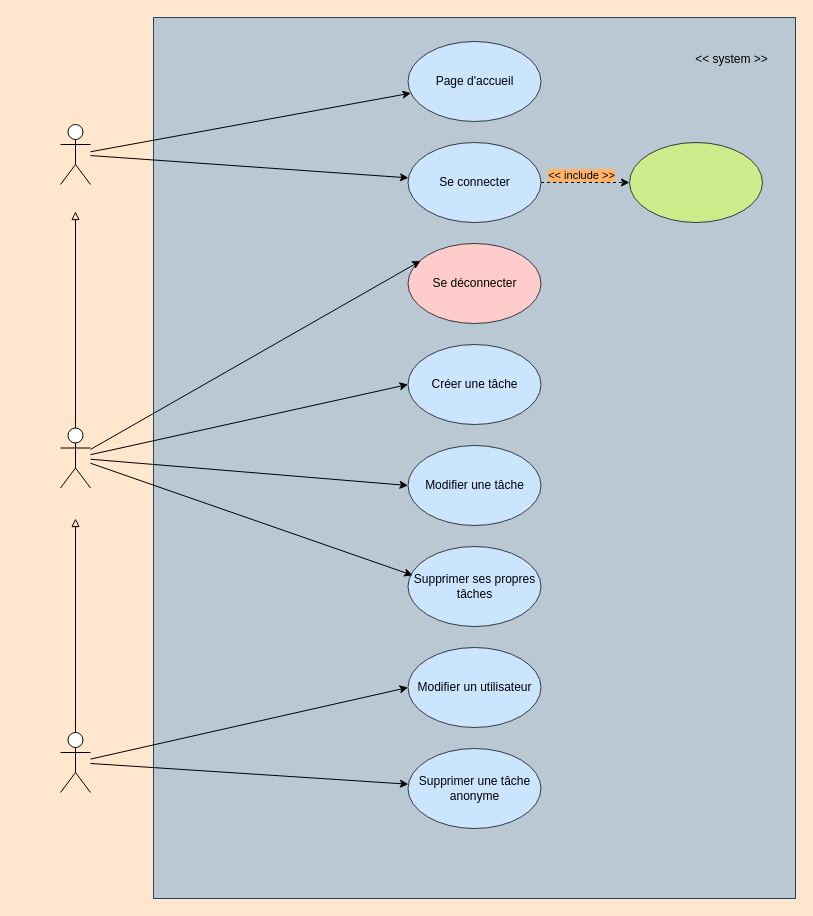
Some shapes in this 813 by 916 pixel diagram are drawn without their labels. Each missing label, with the box of its shape:
Admin: (60, 732, 90, 792)
Créer un utilisateur: (628, 142, 762, 222)
Guest (non-connecté): (60, 124, 90, 184)
User: (60, 427, 90, 488)
